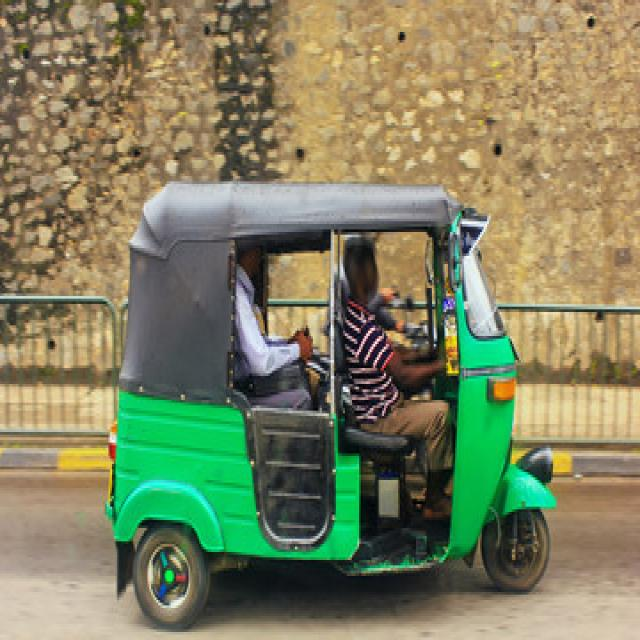person: (343, 237, 452, 520), (235, 248, 311, 408)
three wheeler: (107, 181, 553, 627)
